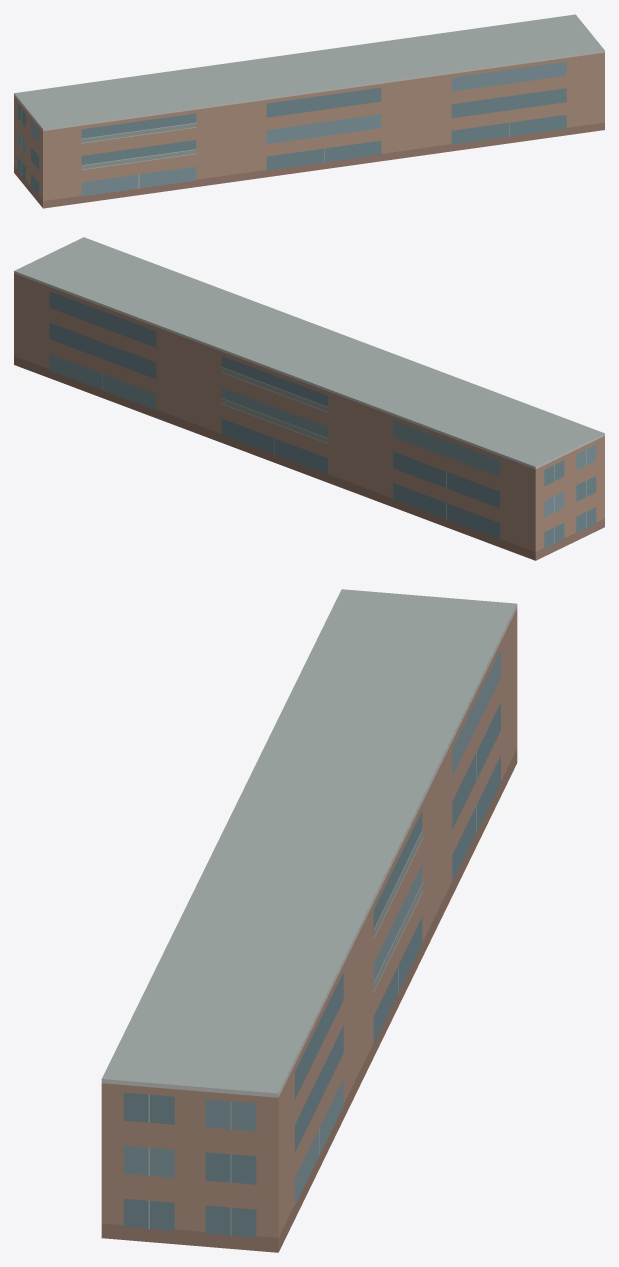
Rendered from survey-upis-32712828.glb.
The picture shows the model from 3 angles, top to bottom: view 1: azimuth 30°, elevation 25°; view 2: azimuth 150°, elevation 25°; view 3: azimuth 270°, elevation 25°; orthographic projection. The views are drawn at different scales.
Visible parts, largest first — view 1: survey-upis-32712828.tmp; view 2: survey-upis-32712828.tmp; view 3: survey-upis-32712828.tmp.
Part boxes in pixels (bbox=[...]): survey-upis-32712828.tmp: bbox=[14, 14, 604, 208]; survey-upis-32712828.tmp: bbox=[14, 237, 604, 560]; survey-upis-32712828.tmp: bbox=[101, 589, 517, 1252].
Bounding box in the file's own units: 62.18 × 9.15 × 21.66.
